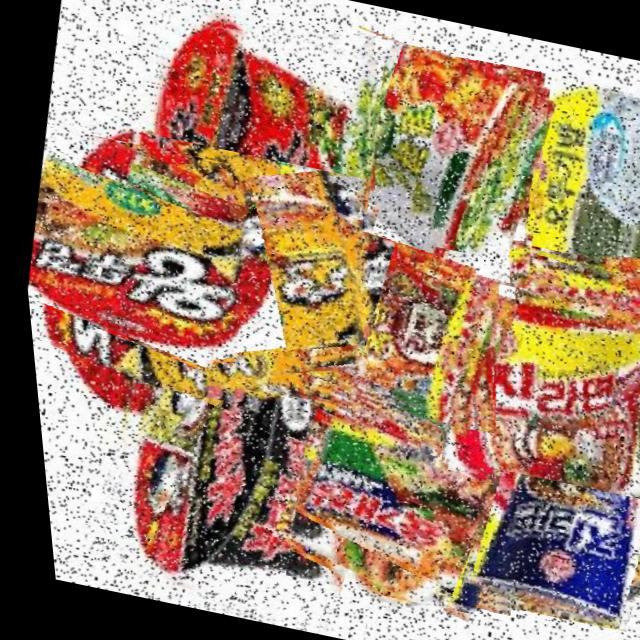Miscellaneous: (55, 311, 408, 640), (88, 131, 396, 419), (282, 27, 567, 297), (257, 354, 543, 620), (9, 124, 274, 402), (393, 221, 640, 500), (243, 214, 516, 428), (127, 0, 398, 211), (436, 420, 640, 630)
